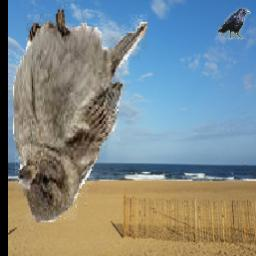Crow: (217, 9, 250, 40)
Sparrow: (12, 0, 146, 223)
